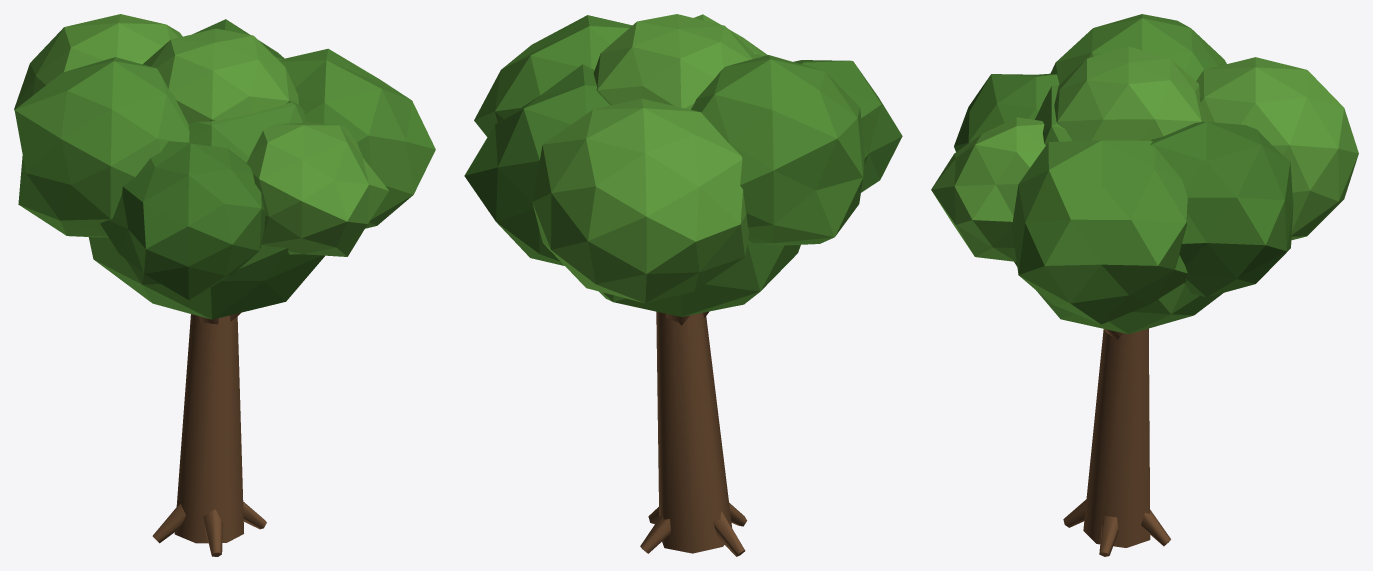
Rendered from tree_oak_3.glb.
3 renders of one model, left to right at view 1: azimuth 30°, elevation 25°; view 2: azimuth 150°, elevation 25°; view 3: azimuth 270°, elevation 25°, orthographic. The views are drawn at different scales.
Visible parts, largest first — view 1: crown, trunk; view 2: crown, trunk; view 3: crown, trunk.
Part boxes in pixels (left/top/right/bottom): crown: left=14, top=14, right=435, bottom=319; trunk: left=152, top=313, right=266, bottom=556; crown: left=464, top=14, right=902, bottom=316; trunk: left=640, top=311, right=747, bottom=556; crown: left=931, top=14, right=1358, bottom=334; trunk: left=1063, top=328, right=1170, bottom=556.
Bounding box in the file's own units: 2.21 × 2.85 × 2.31.
